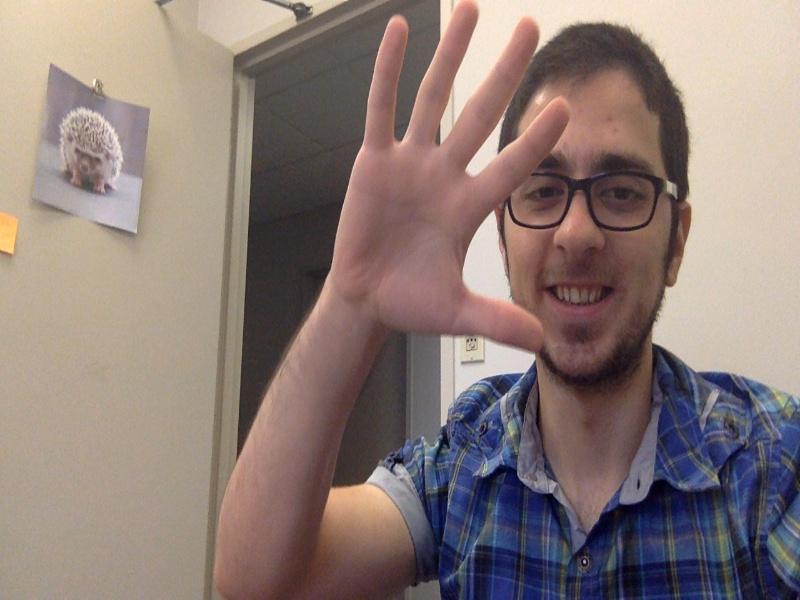5-hand: (326, 2, 572, 362)
